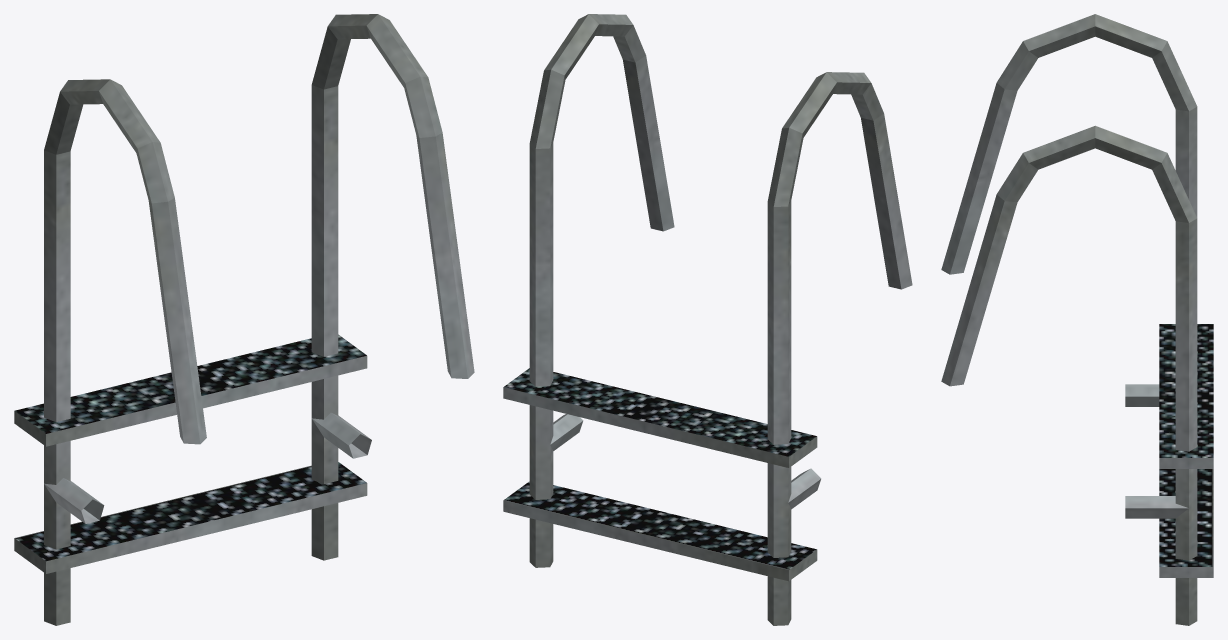
File: Pool01_Ladder01.obj
3 views of the same model, side by side, from view 1: azimuth 30°, elevation 25°; view 2: azimuth 150°, elevation 25°; view 3: azimuth 270°, elevation 25° (orthographic). The views are drawn at different scales.
Parts seen in each view (by area): view 1: Pool01_Ladder01; view 2: Pool01_Ladder01; view 3: Pool01_Ladder01.
Part boxes in pixels (x1=…): Pool01_Ladder01: x1=14, y1=14, x2=474, y2=625; Pool01_Ladder01: x1=503, y1=14, x2=912, y2=625; Pool01_Ladder01: x1=941, y1=14, x2=1213, y2=625.
Bounding box in the file's own units: 1.32 × 2.27 × 1.13.
